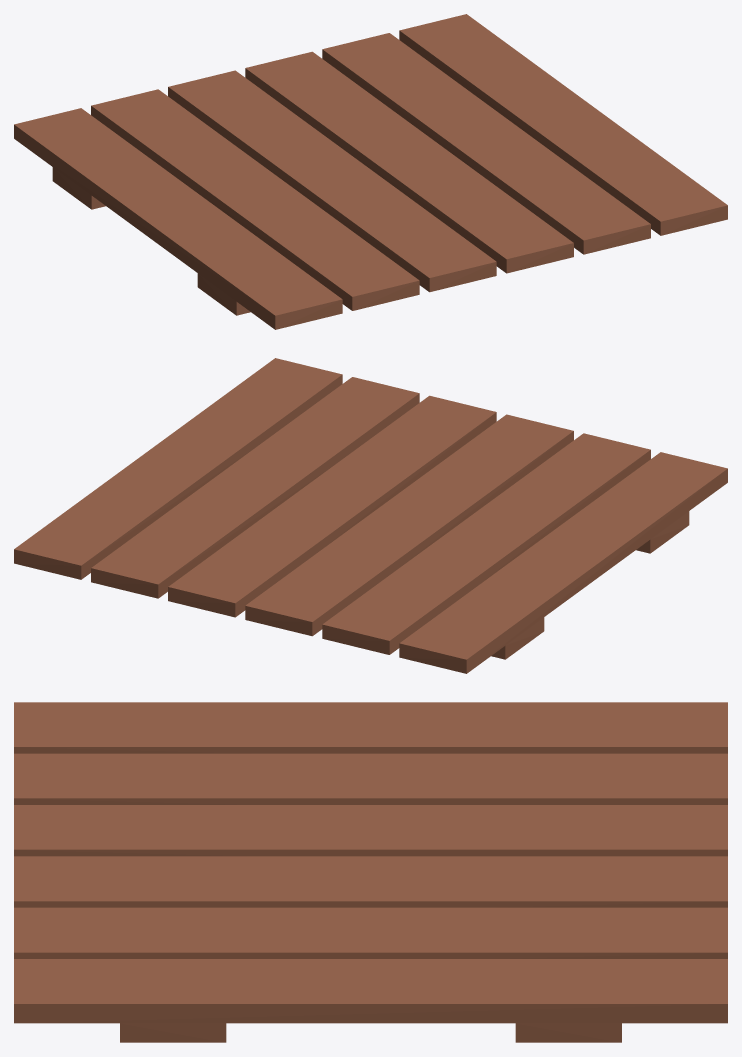
Rendered from fantasytown_planks.glb.
3 views of the same model, one above another, from view 1: azimuth 30°, elevation 25°; view 2: azimuth 150°, elevation 25°; view 3: azimuth 270°, elevation 25° (orthographic). The views are drawn at different scales.
Visible parts, largest first — view 1: fantasytown_planks; view 2: fantasytown_planks; view 3: fantasytown_planks.
Part boxes in pixels (bbox=[...]): fantasytown_planks: bbox=[14, 14, 727, 329]; fantasytown_planks: bbox=[14, 358, 727, 673]; fantasytown_planks: bbox=[14, 702, 727, 1042].
Bounding box in the file's own units: 1 × 0.06 × 1.
